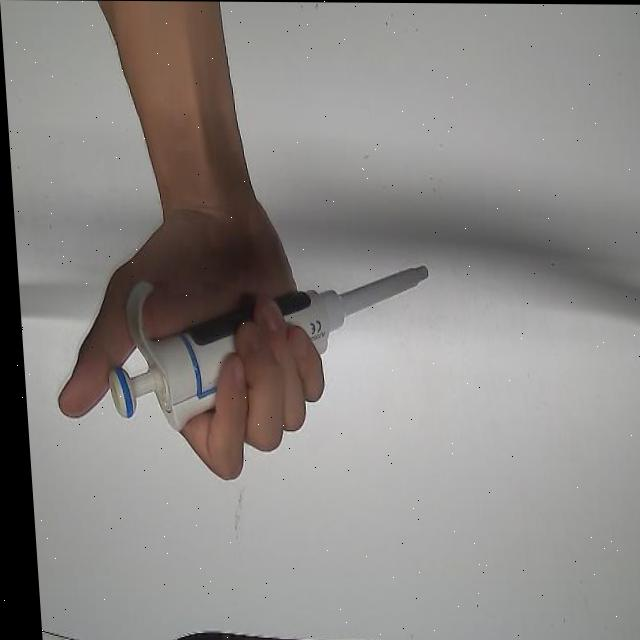Single Channel Pipettor: (91, 259, 436, 436)
